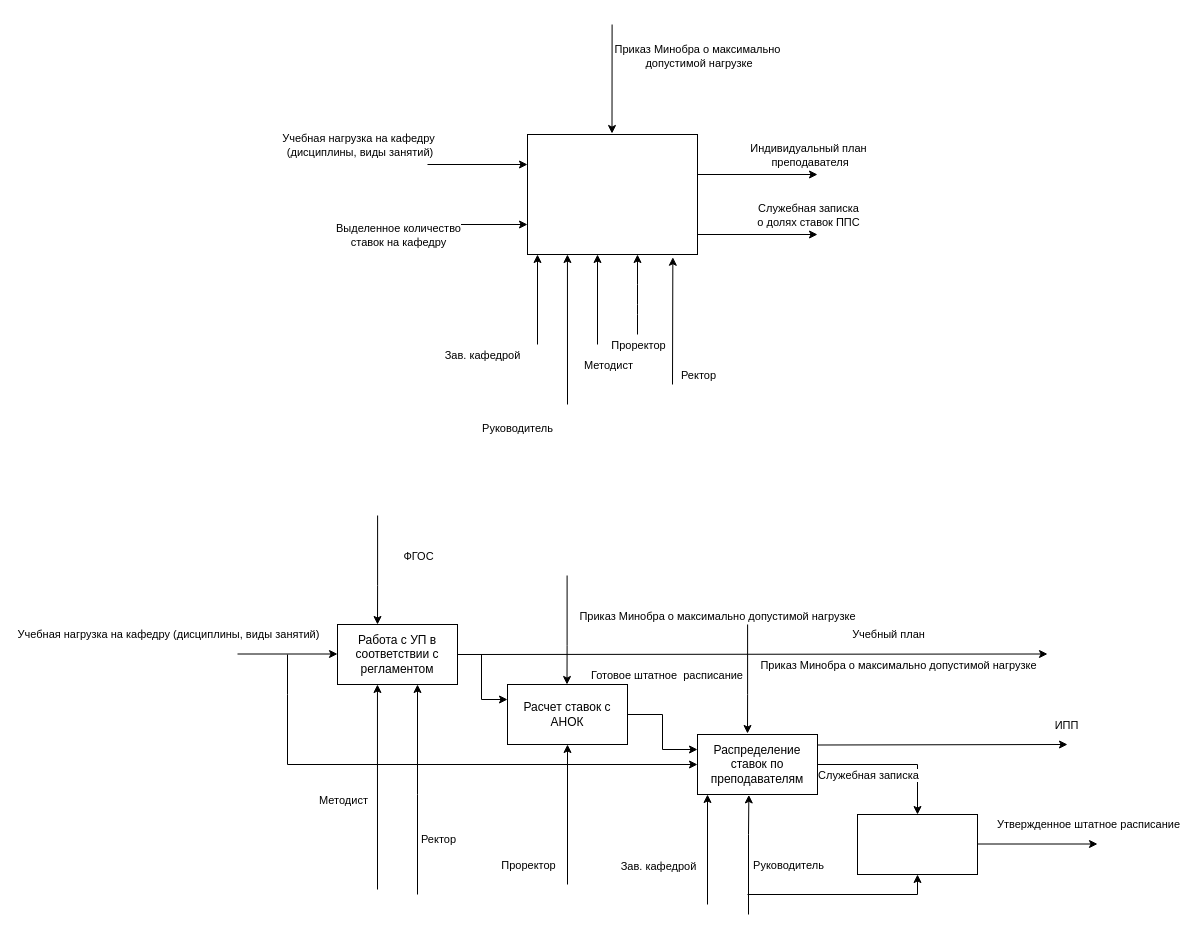
This 1197x940 diagram has some shape labels left out. Here are the shapes that lost their labels. From the top down, the centre of each, then its label:
At [612,194]: "Распределение ставок между преподавателями".
At [917,844]: "Утверждение штатного расписания".
